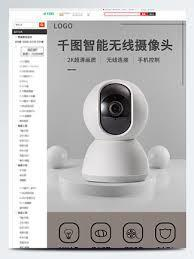maru: (79, 72, 156, 147)
